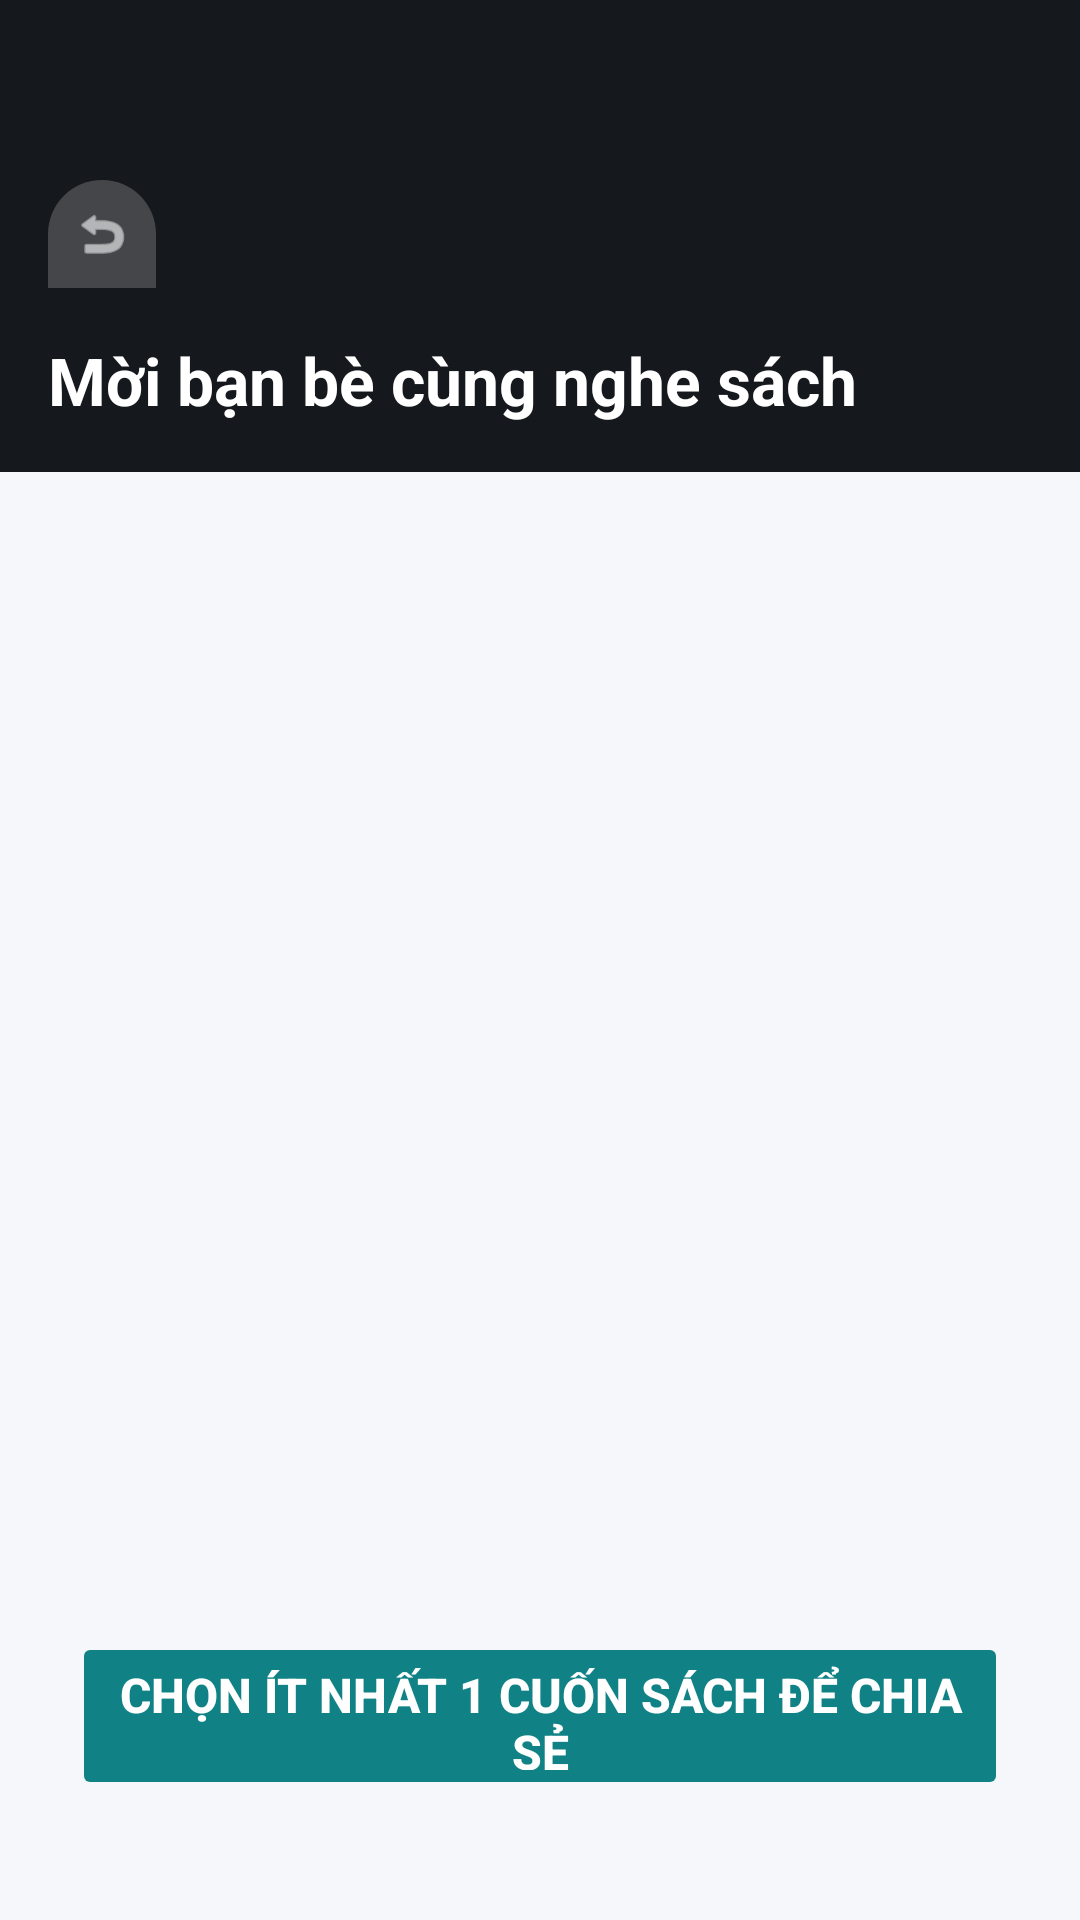

Icons on this 1080*1920 Android screen, each with the point to tap as (x=x, y=y):
revert: (x=102, y=234)
